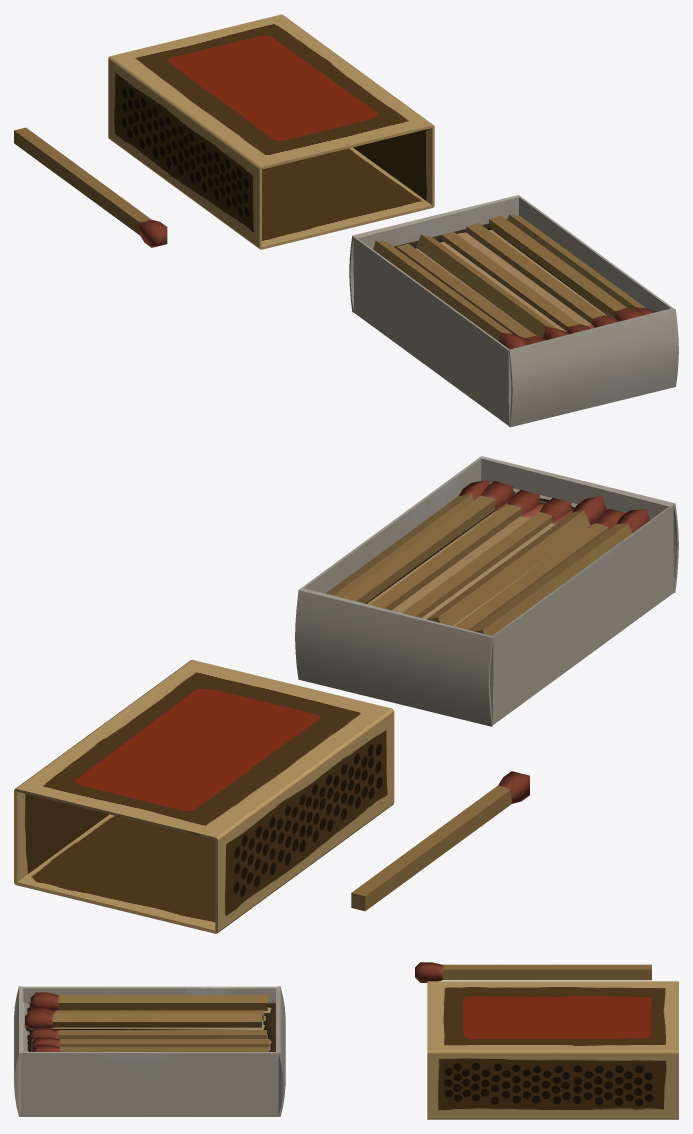
Rendered from MatchboxEverything.fbx.
The picture shows the model from 3 angles, top to bottom: view 1: azimuth 30°, elevation 25°; view 2: azimuth 150°, elevation 25°; view 3: azimuth 270°, elevation 25°; orthographic projection. The views are drawn at different scales.
Visible parts, largest first — view 1: MatchBoxOuter, MatchBoxInner, MatchesTogether, Match, PlaneForMatchesTexture; view 2: MatchBoxOuter, MatchBoxInner, MatchesTogether, Match, PlaneForMatchesTexture; view 3: MatchBoxOuter, MatchBoxInner, MatchesTogether, Match, PlaneForMatchesTexture.
Part boxes in pixels (left/top/right/bottom): MatchBoxOuter: left=108, top=14, right=434, bottom=249; MatchBoxInner: left=349, top=195, right=678, bottom=427; MatchesTogether: left=373, top=214, right=655, bottom=349; Match: left=14, top=127, right=167, bottom=247; PlaneForMatchesTexture: left=394, top=219, right=611, bottom=336; MatchBoxOuter: left=14, top=660, right=394, bottom=933; MatchBoxInner: left=295, top=456, right=678, bottom=726; MatchesTogether: left=326, top=480, right=649, bottom=635; Match: left=351, top=771, right=529, bottom=911; PlaneForMatchesTexture: left=365, top=483, right=594, bottom=626; MatchBoxOuter: left=427, top=981, right=678, bottom=1119; MatchBoxInner: left=14, top=986, right=285, bottom=1116; MatchesTogether: left=25, top=992, right=269, bottom=1051; Match: left=415, top=962, right=651, bottom=982; PlaneForMatchesTexture: left=23, top=1002, right=275, bottom=1051.
Size of the model in its own units: 0.1641 by 0.3959 by 0.0452.
